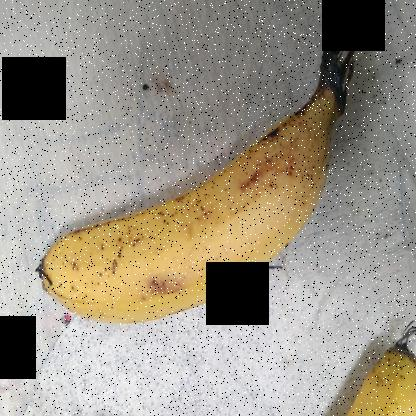ripe: (34, 98, 334, 329)
